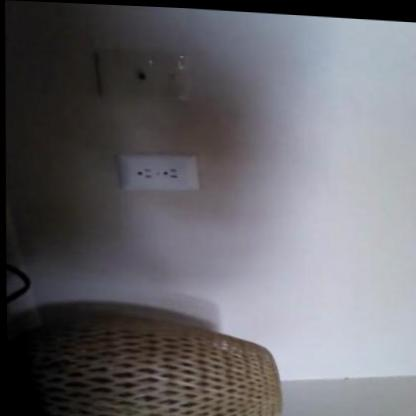OUTLET: (120, 150, 197, 192)
